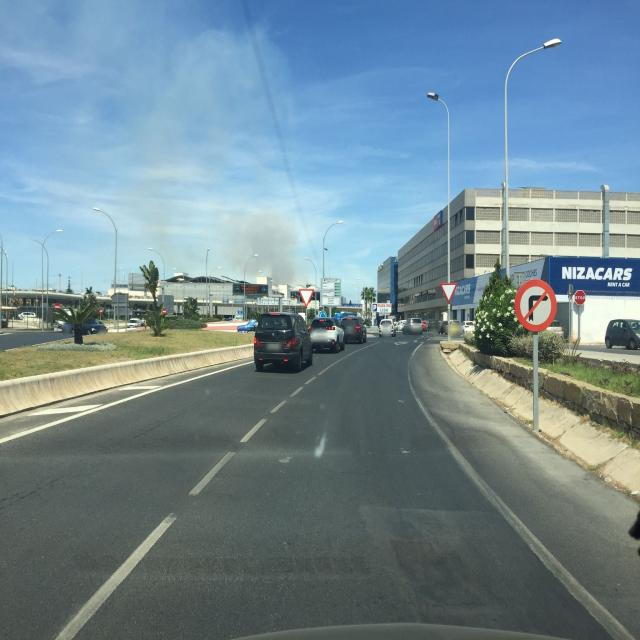car: (252, 312, 314, 372), (308, 317, 346, 353), (604, 319, 640, 351), (339, 316, 368, 344), (402, 317, 427, 334), (378, 319, 397, 338), (237, 318, 258, 332), (462, 320, 476, 333)
